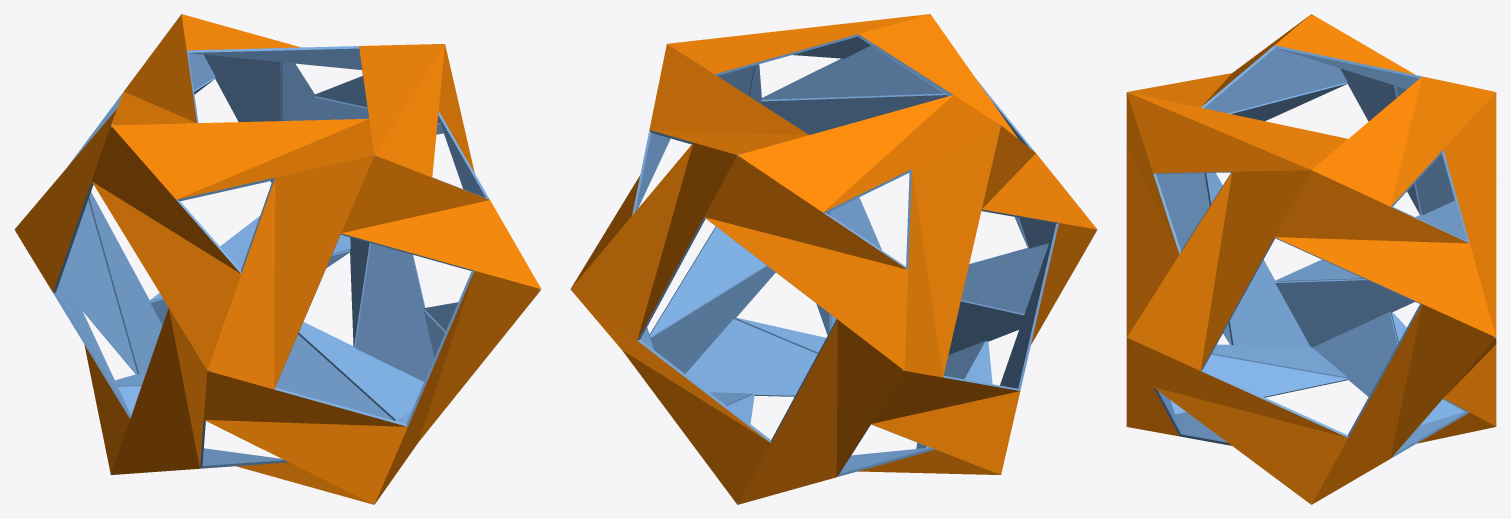
The model's file is Cuboctahedron.glb.
3 views of the same model, side by side, from view 1: azimuth 30°, elevation 25°; view 2: azimuth 150°, elevation 25°; view 3: azimuth 270°, elevation 25° (orthographic). The views are drawn at different scales.
Parts seen in each view (by area): view 1: root; view 2: root; view 3: root.
Part boxes in pixels (x1,y1,x2,y2): root: (14, 14, 541, 504); root: (570, 14, 1097, 504); root: (1126, 14, 1496, 504).
Bounding box in the file's own units: 7.22 × 7.22 × 7.22.
